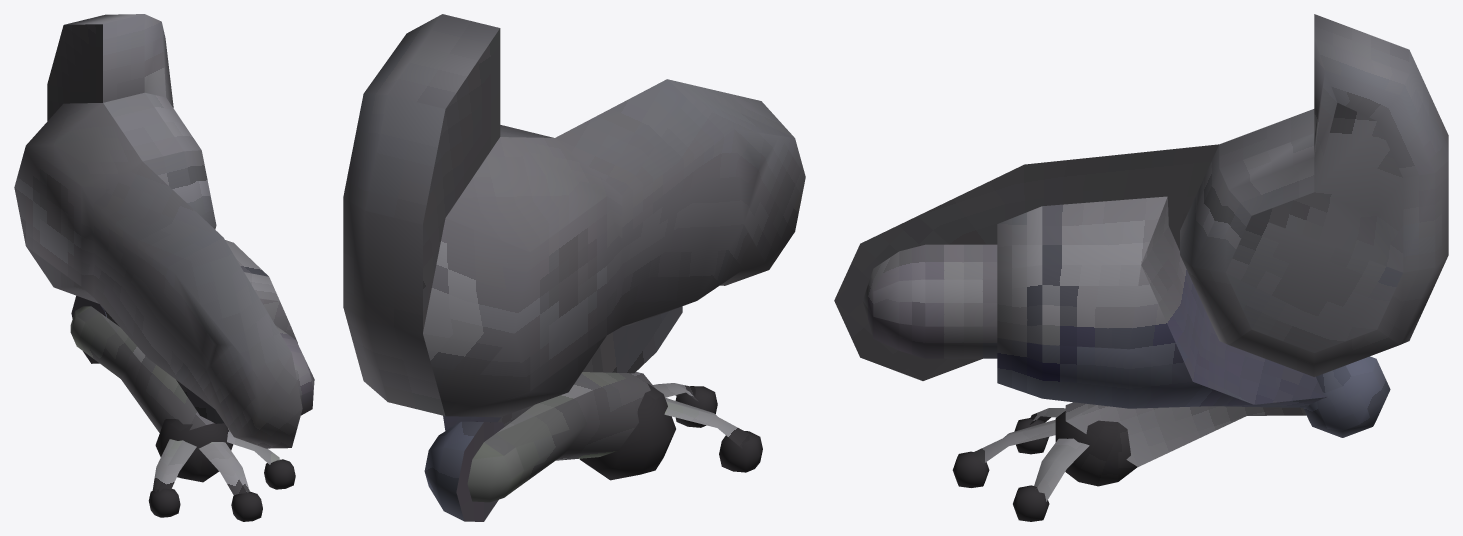
Rendered from Cyberlegs.fbx.
The picture shows the model from 3 angles, left to right: view 1: azimuth 30°, elevation 25°; view 2: azimuth 150°, elevation 25°; view 3: azimuth 270°, elevation 25°; orthographic projection. The views are drawn at different scales.
Parts seen in each view (by area): view 1: Inner thigh, Hip, Lower leg, Foot, Outer thigh; view 2: Inner thigh, Hip, Lower leg, Outer thigh, Foot; view 3: Hip, Outer thigh, Inner thigh, Lower leg, Foot.
Boxes of the visible parts, x1=… form: Inner thigh: x1=14, y1=103, x2=302, y2=448; Hip: x1=47, y1=14, x2=216, y2=229; Lower leg: x1=70, y1=306, x2=233, y2=482; Foot: x1=148, y1=429, x2=295, y2=521; Outer thigh: x1=71, y1=240, x2=314, y2=423; Inner thigh: x1=423, y1=79, x2=805, y2=417; Hip: x1=343, y1=14, x2=553, y2=415; Lower leg: x1=467, y1=372, x2=675, y2=502; Outer thigh: x1=424, y1=306, x2=682, y2=521; Foot: x1=653, y1=383, x2=762, y2=472; Hip: x1=1180, y1=14, x2=1448, y2=376; Outer thigh: x1=862, y1=196, x2=1390, y2=437; Inner thigh: x1=834, y1=144, x2=1219, y2=380; Lower leg: x1=1055, y1=402, x2=1306, y2=486; Foot: x1=952, y1=408, x2=1089, y2=521.
Bounding box in the file's own units: 106 × 259 × 307.
